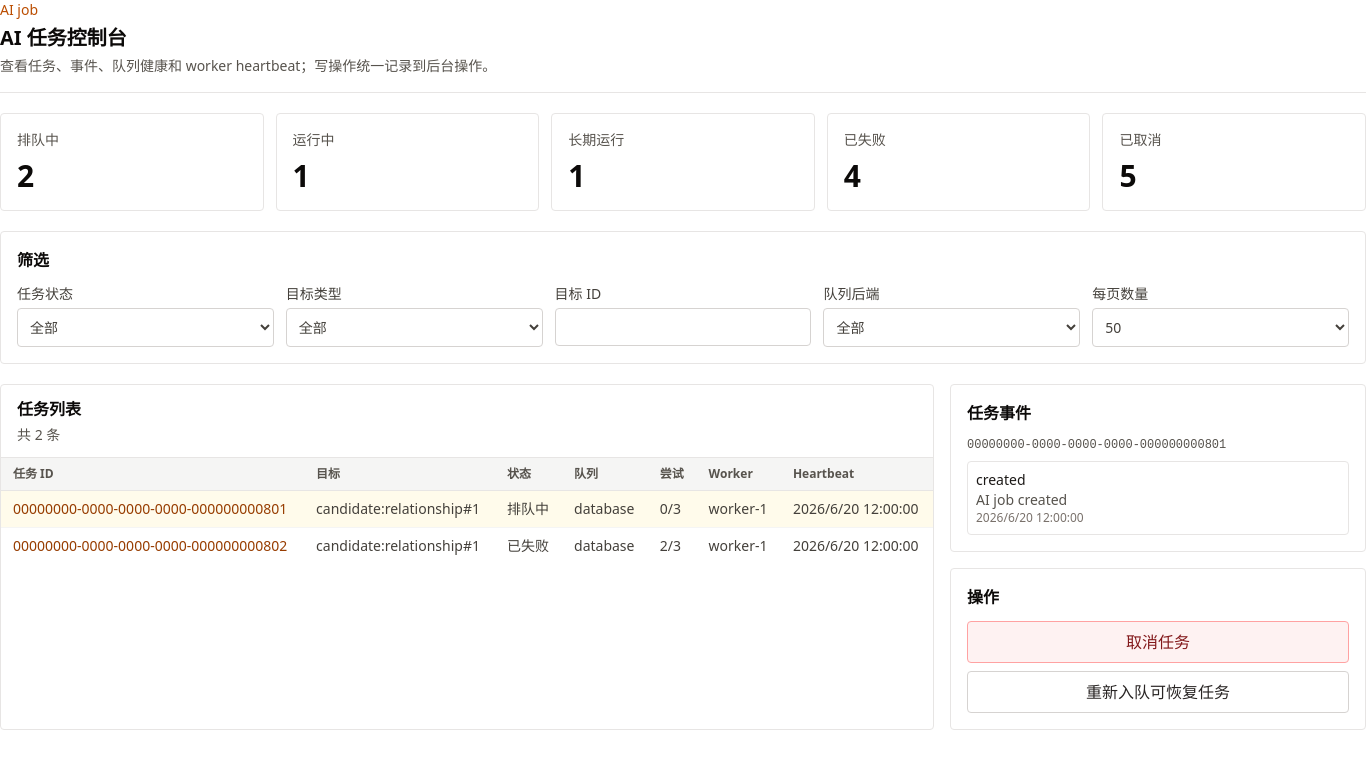
Test: AdminAIJobsPage › shows operation id and CLI preview after requeue
Expected: the button "00000000-0000-0000-0000-000000000801" is shown, [13, 499, 287, 519]
Click the button "重新入队可恢复任务" at (1158, 692), box [967, 671, 1349, 713]
(page scrolled)
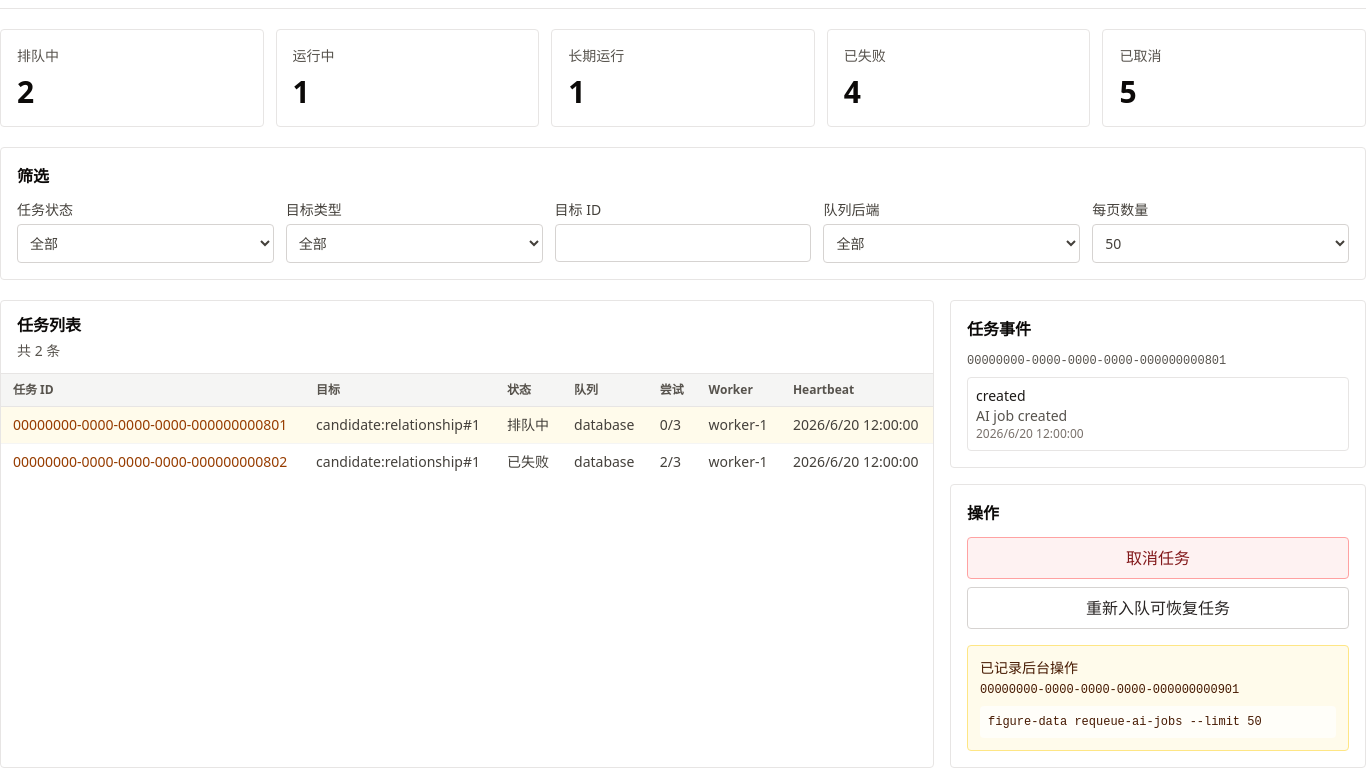
Expected: the link "00000000-0000-0000-0000-000000000901" is shown, [980, 683, 1239, 697]
Expected: the text "figure-data requeue-ai-jobs --limit 50" is shown, [980, 706, 1336, 738]
